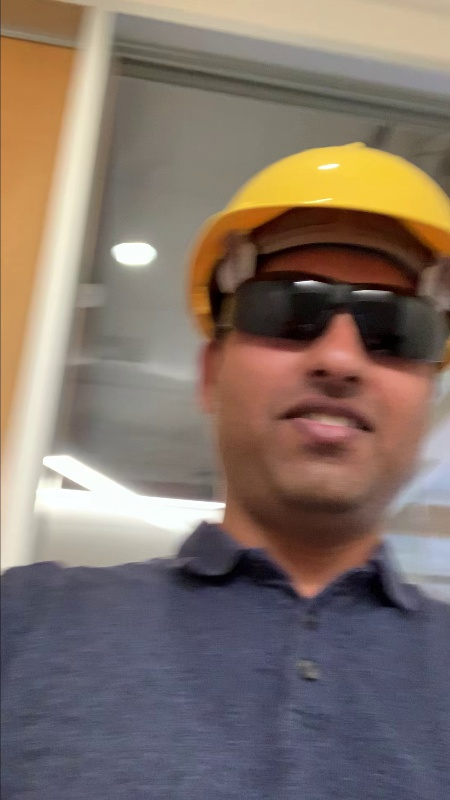glasses: (213, 272, 450, 374)
helmet: (179, 138, 450, 299)
